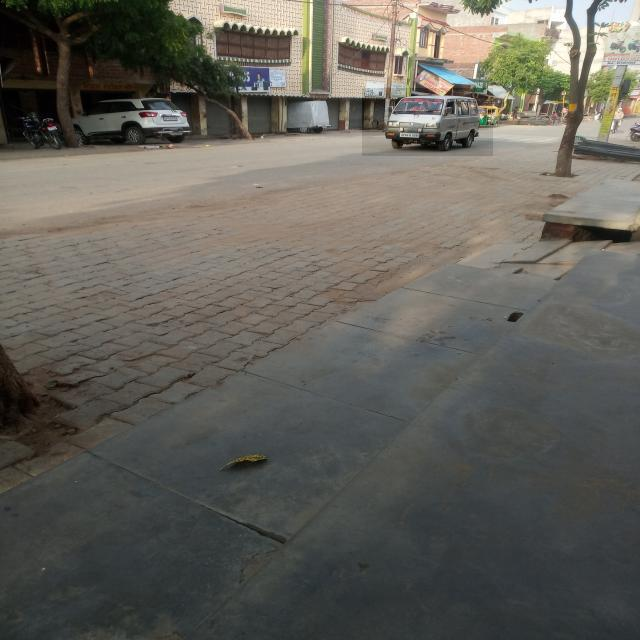Travller: (362, 88, 493, 156)
